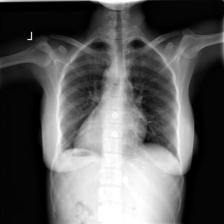normal: (59, 36, 181, 164)
